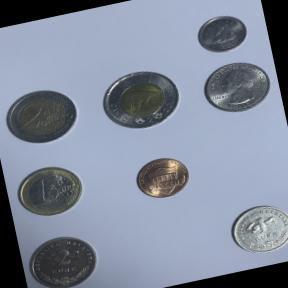1 Euro: (8, 157, 90, 224)
2 Euro: (0, 79, 86, 153)
Canda-10cent-: (190, 8, 254, 60)
Canda-2Dollar-: (94, 61, 188, 138)
Croatia-2Kune-: (18, 227, 106, 288)
US-1cent-: (126, 150, 198, 207)
US-25cent-: (195, 53, 278, 120)
